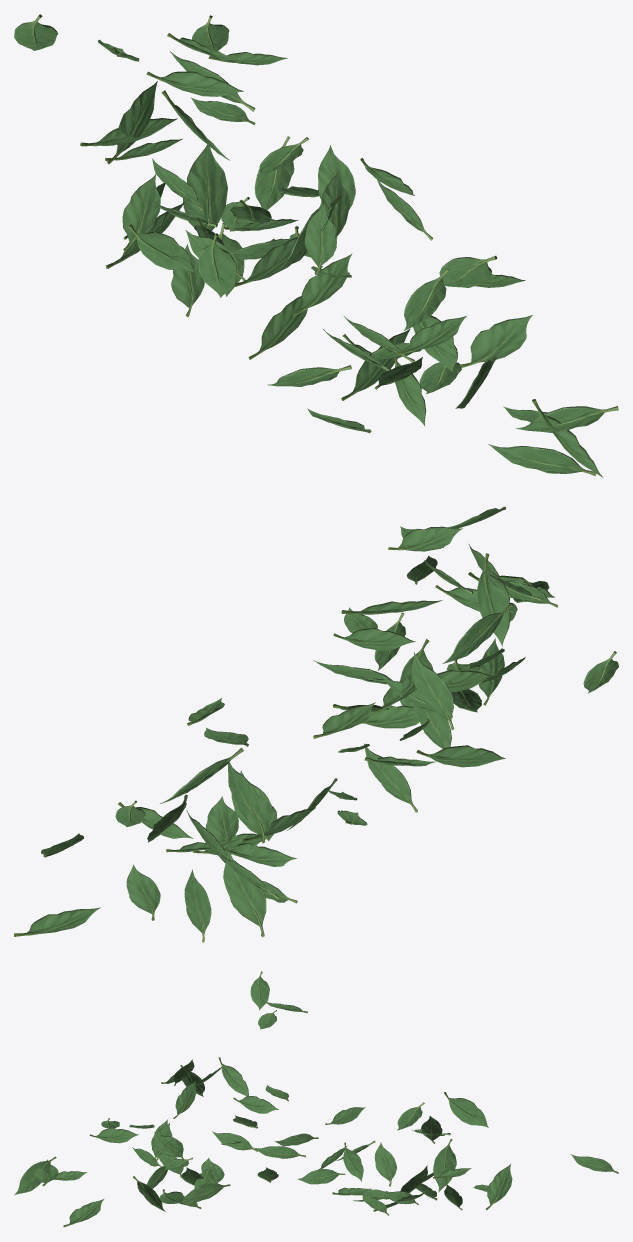
The model's file is holy_canopy11_full.glb.
The picture shows the model from 3 angles, top to bottom: view 1: azimuth 30°, elevation 25°; view 2: azimuth 150°, elevation 25°; view 3: azimuth 270°, elevation 25°; orthographic projection. The views are drawn at different scales.
Visible parts, largest first — view 1: holy_canopy11; view 2: holy_canopy11; view 3: holy_canopy11.
Part boxes in pixels (<box>): holy_canopy11: <box>14,14,618,477</box>; holy_canopy11: <box>14,506,618,942</box>; holy_canopy11: <box>14,971,618,1227</box>.
Bounding box in the file's own units: 8.85 × 11.06 × 29.12.
1 material, 1 textured.
